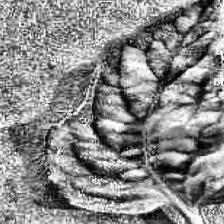leaf mold: (47, 0, 224, 214)
